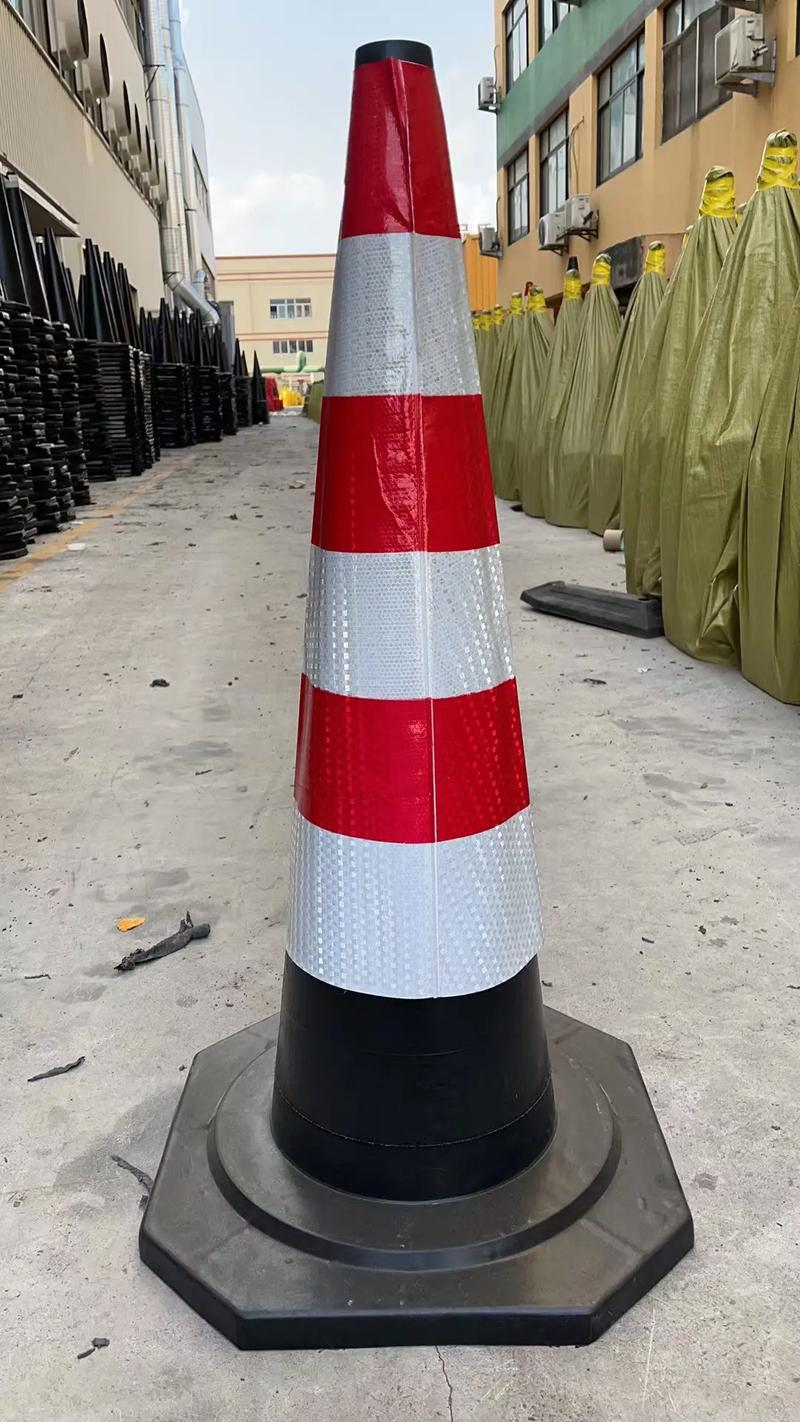traffic_cone: (39, 38, 731, 1352)
